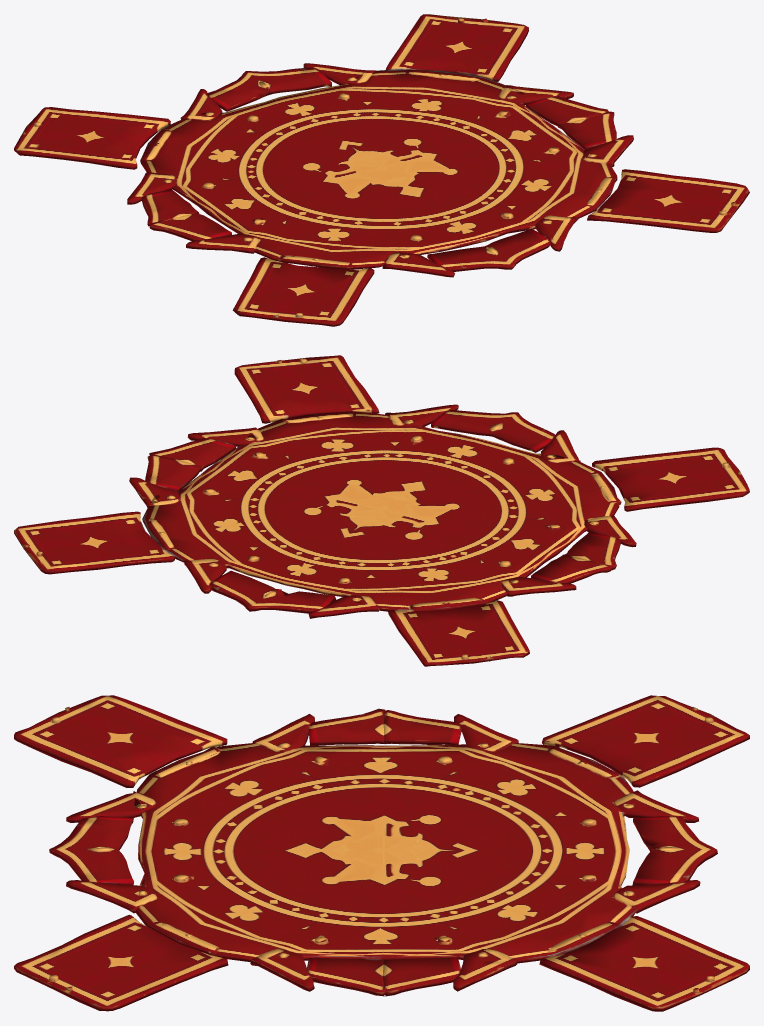
The model's file is Meshy_AI_model.fbx.
The picture shows the model from 3 angles, top to bottom: view 1: azimuth 30°, elevation 25°; view 2: azimuth 150°, elevation 25°; view 3: azimuth 270°, elevation 25°; orthographic projection. The views are drawn at different scales.
Parts seen in each view (by area): view 1: Mesh_0; view 2: Mesh_0; view 3: Mesh_0.
Boxes of the visible parts, bbox=[...] form: Mesh_0: bbox=[14, 14, 749, 326]; Mesh_0: bbox=[14, 355, 749, 666]; Mesh_0: bbox=[14, 695, 749, 1011].
Bounding box in the file's own units: 100 × 2.29 × 100.
1 material, 1 textured.
